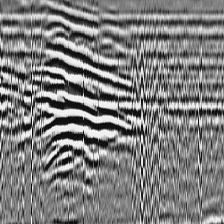cavities: (28, 32, 135, 169)
